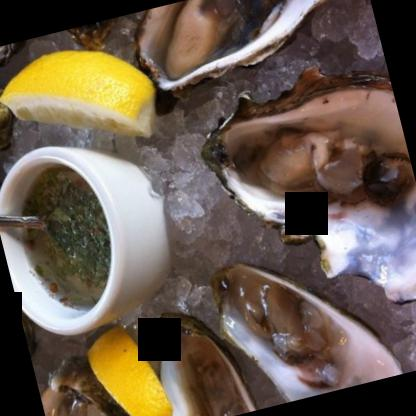oyster: (194, 73, 415, 341), (205, 231, 406, 414), (123, 0, 359, 101), (141, 301, 260, 415)
